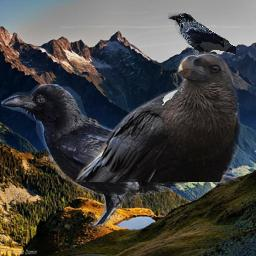Crow: (1, 84, 240, 232), (73, 50, 243, 182), (168, 13, 236, 58)
